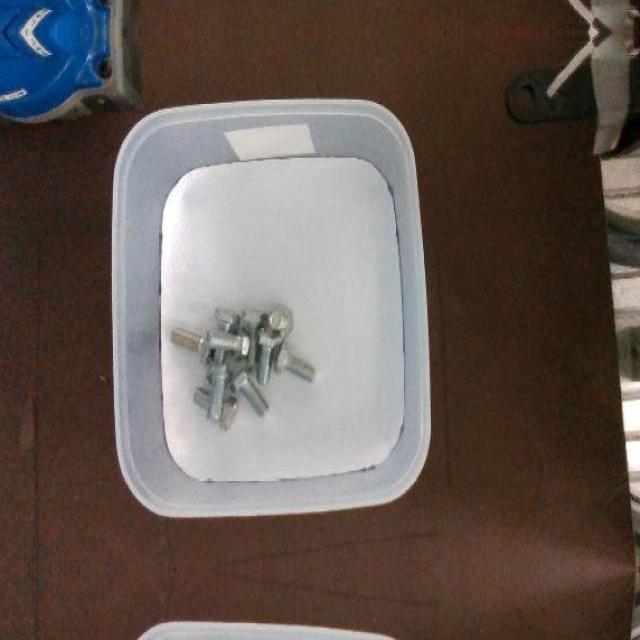screw: (230, 361, 268, 417), (274, 341, 317, 383), (207, 361, 234, 424), (206, 324, 249, 359)
